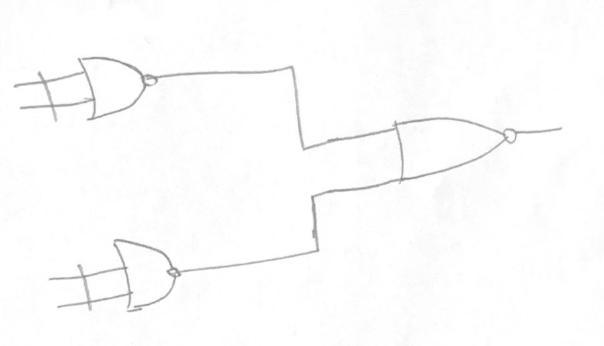NOR: (379, 101, 527, 191)
XNOR: (23, 49, 174, 132), (72, 234, 198, 326)
